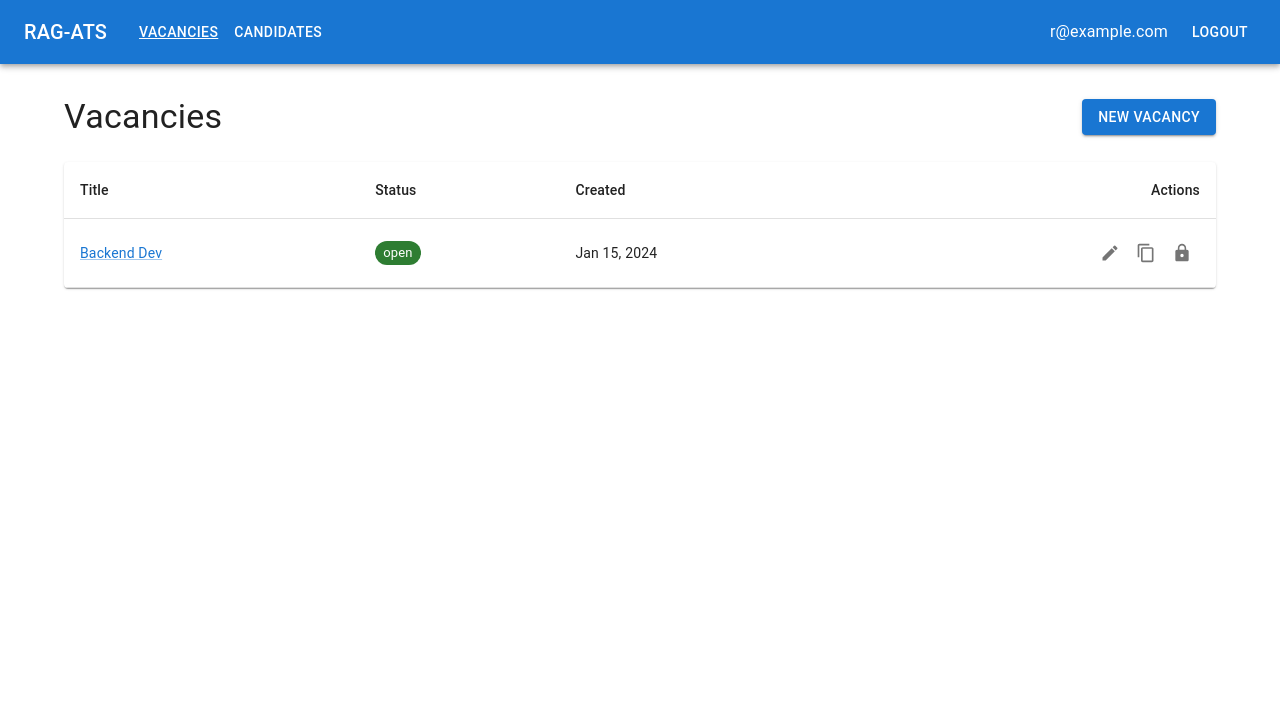
VacanciesPage › edits a vacancy without sending status and updates the row
Expected: the link "Backend Dev" is shown, left=80, top=245, right=162, bottom=261
Click the button named "Edit Backend Dev" at (1110, 253), box left=1092, top=235, right=1128, bottom=271
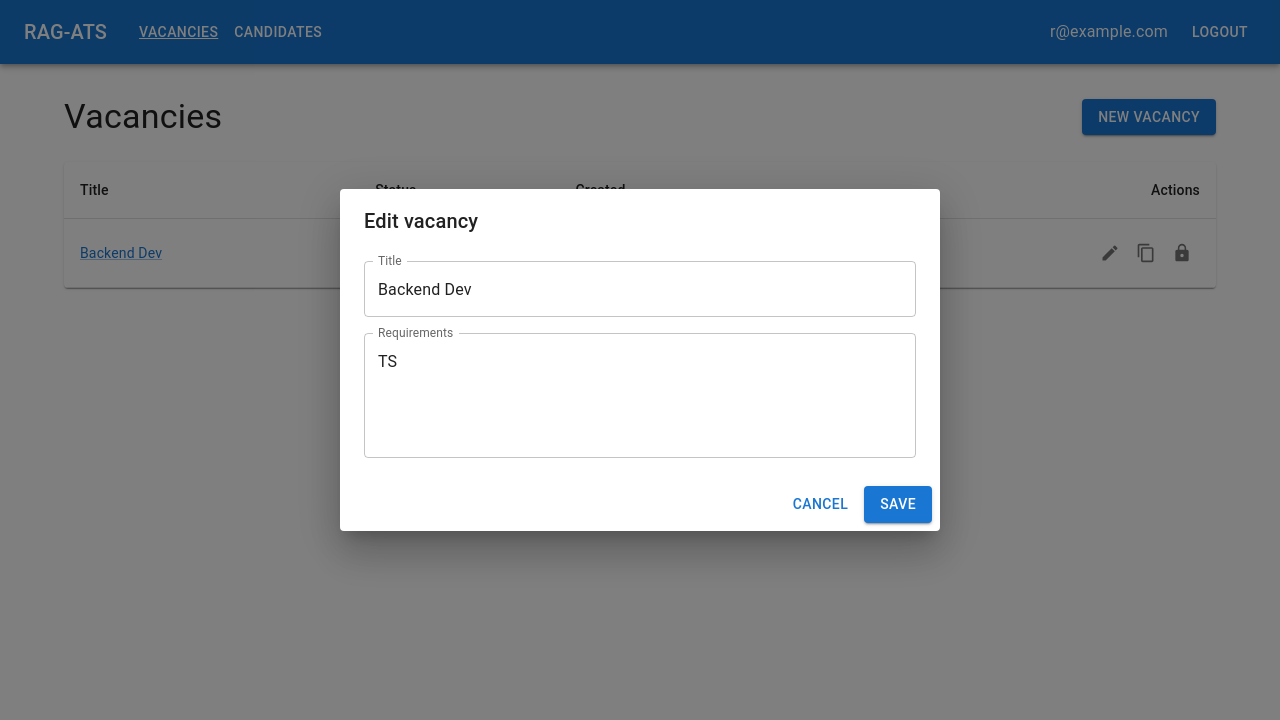
Expected: the heading "Edit vacancy" is shown, left=364, top=209, right=478, bottom=233
Expected: the field labelled "Title" holds "Backend Dev"
Expected: the text box labelled "Requirements" holds "TS", left=378, top=350, right=902, bottom=442
Clear the field labelled "Title" at (640, 289), box left=364, top=261, right=916, bottom=317
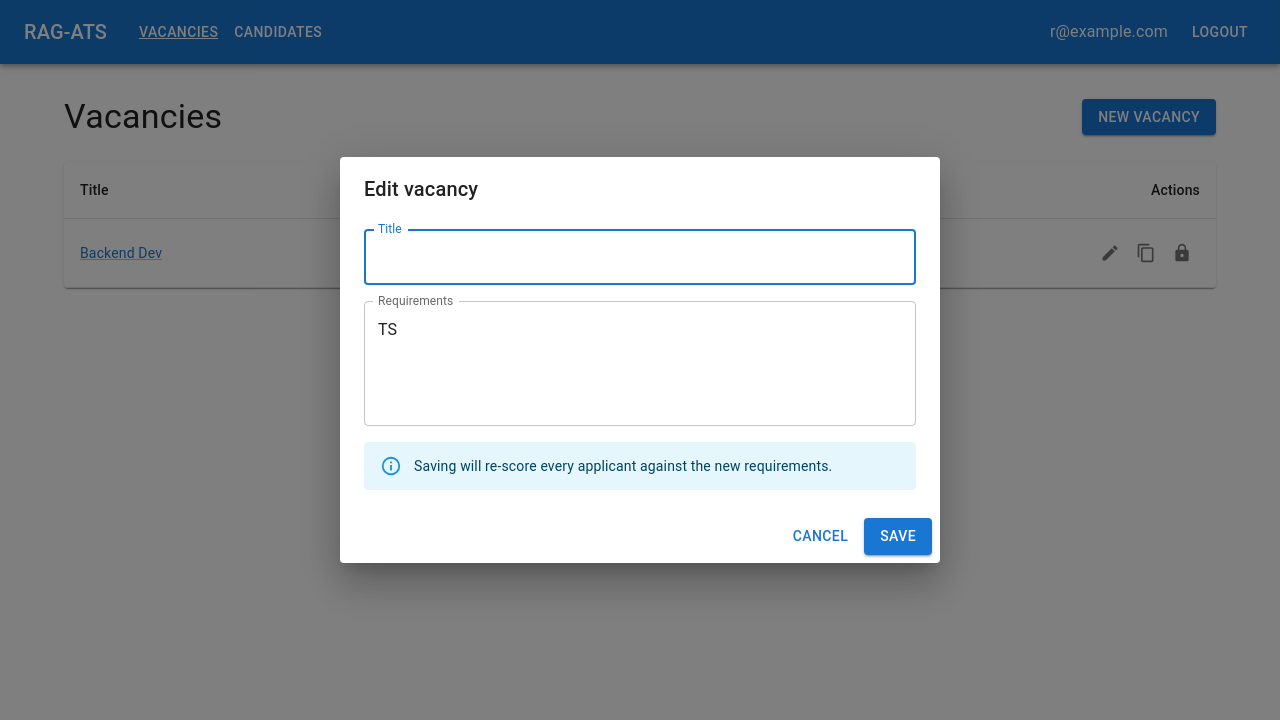
Type "Senior Backend Dev" into the field labelled "Title" at (640, 257), box left=364, top=229, right=916, bottom=285
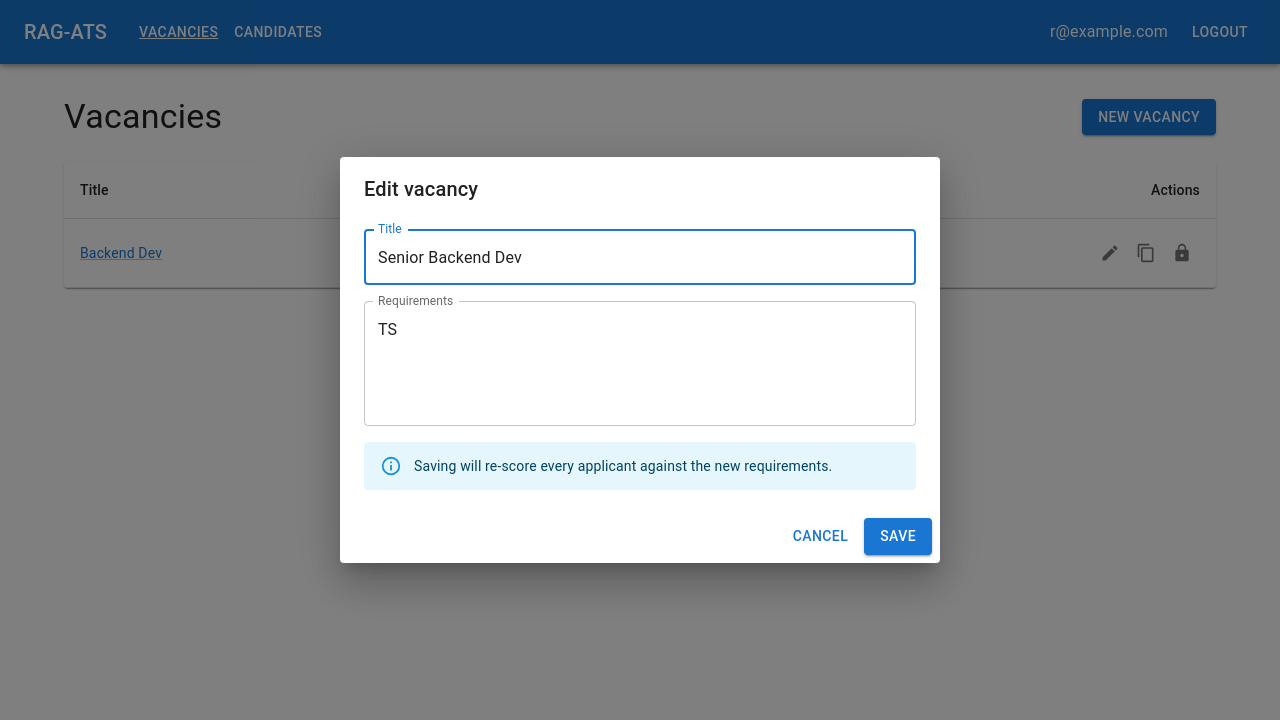
Click the button "Save" at (898, 537), box left=864, top=518, right=932, bottom=555
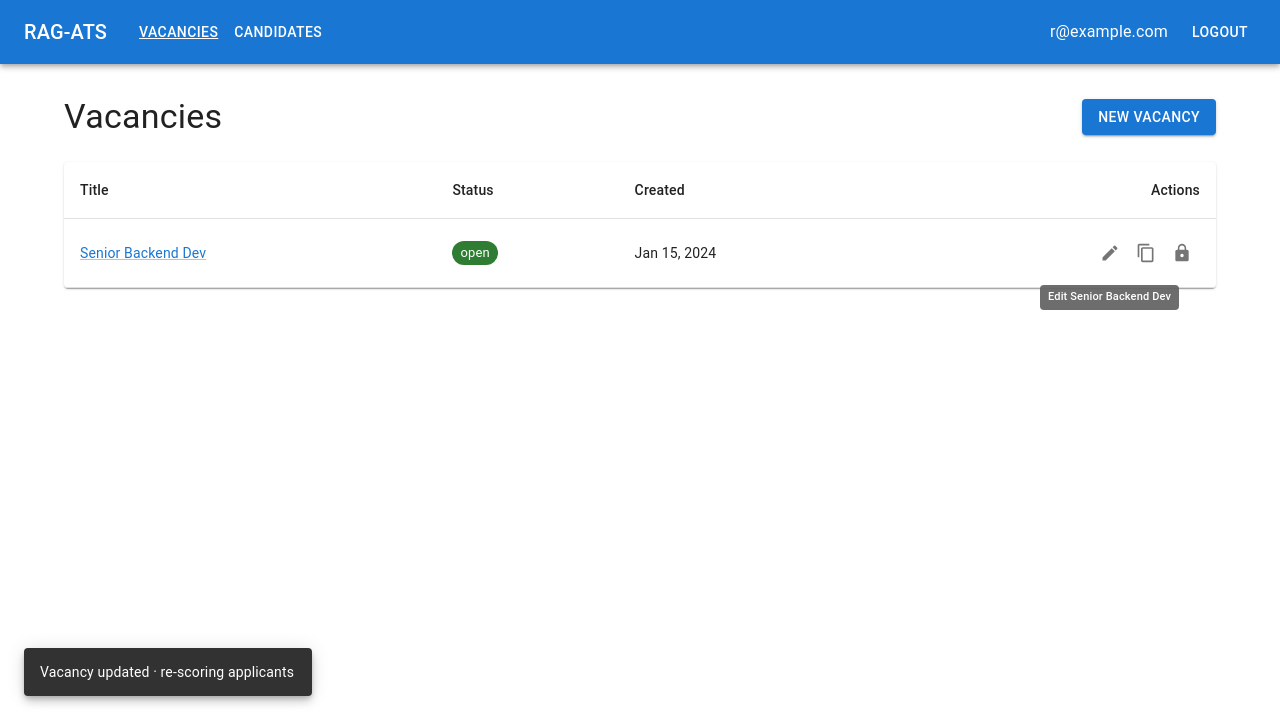
Expected: the text "Vacancy updated · re-scoring applicants" is shown, left=40, top=664, right=294, bottom=680
Expected: the link "Senior Backend Dev" is shown, left=80, top=245, right=206, bottom=261
